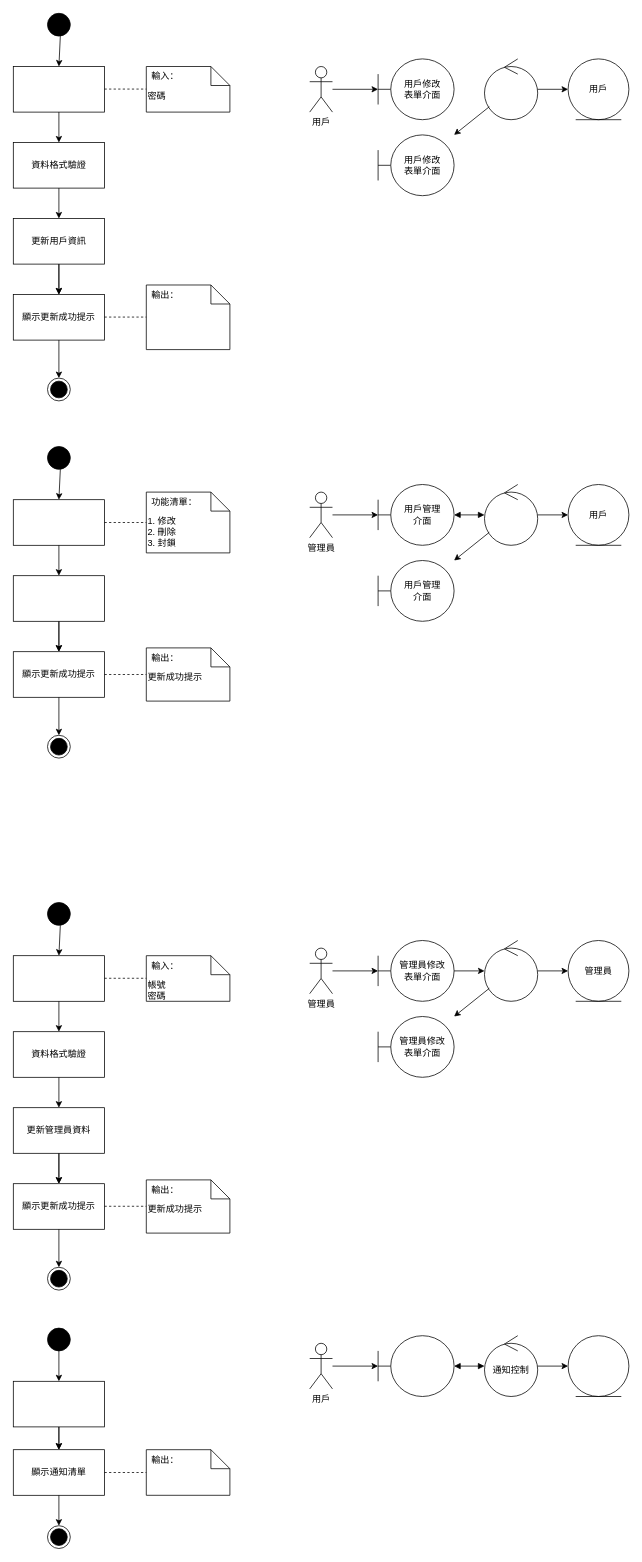
The diagram is 642 pixels wide and 1562 high, and some of its shapes have lost their labels. The shapes that lost their labels are listed below. From the top down, each one's box as (x1, y1, x2, y2) in pixels, then its label:
(13, 66, 104, 112): 顯示用戶修改表單
(484, 58, 538, 120): 用戶管理 控制
(146, 284, 230, 350): 更新成功提示 密碼
(13, 499, 104, 545): 顯示用戶管理 功能清單
(484, 484, 538, 545): 用戶封鎖 控制
(13, 575, 104, 621): 更新用戶資料
(13, 955, 104, 1001): 顯示管理員修改表單
(484, 940, 538, 1001): 管理員 控制
(377, 1335, 454, 1396): 通知介面
(567, 1335, 629, 1396): 通知
(13, 1381, 104, 1427): 用戶點擊查看通知按鈕
(146, 1449, 230, 1495): 1. 通知內容清單
